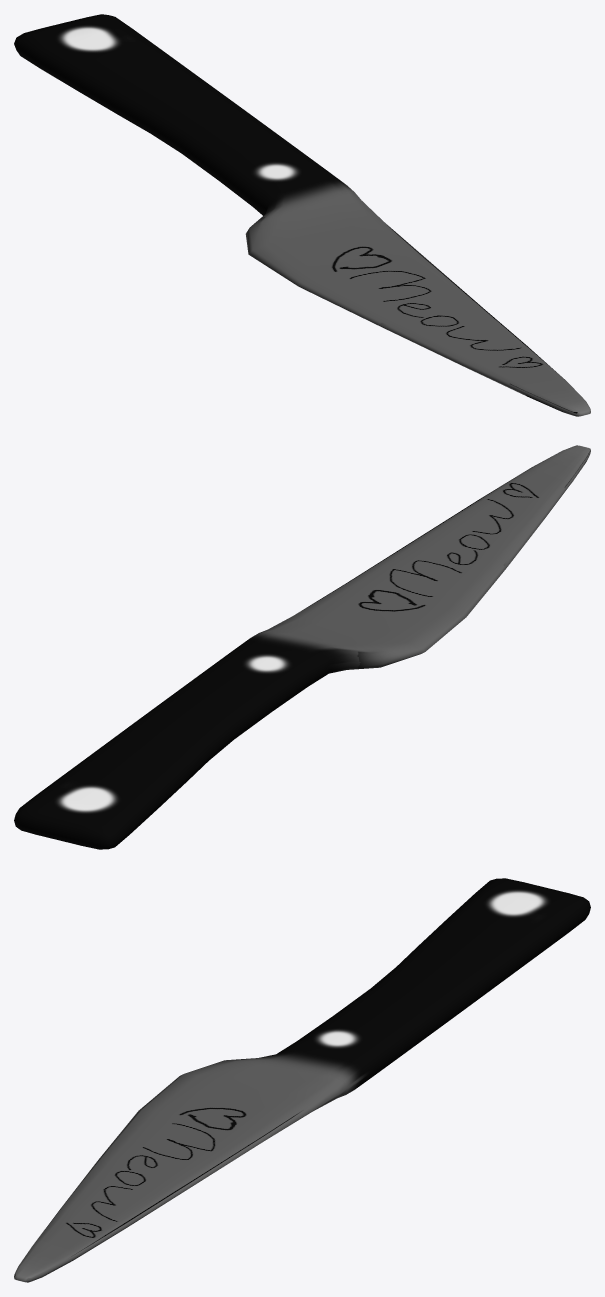
File: Knife.fbx
3 renders of one model, top to bottom at view 1: azimuth 30°, elevation 25°; view 2: azimuth 150°, elevation 25°; view 3: azimuth 330°, elevation 25°, orthographic.
Visible parts, largest first — view 1: Knife; view 2: Knife; view 3: Knife.
Part boxes in pixels (bbox=[...]): Knife: bbox=[14, 14, 590, 416]; Knife: bbox=[14, 445, 590, 849]; Knife: bbox=[14, 878, 590, 1282].
Size of the model in its own units: 1.74 by 11.45 by 0.3029.
1 material, 1 textured.
